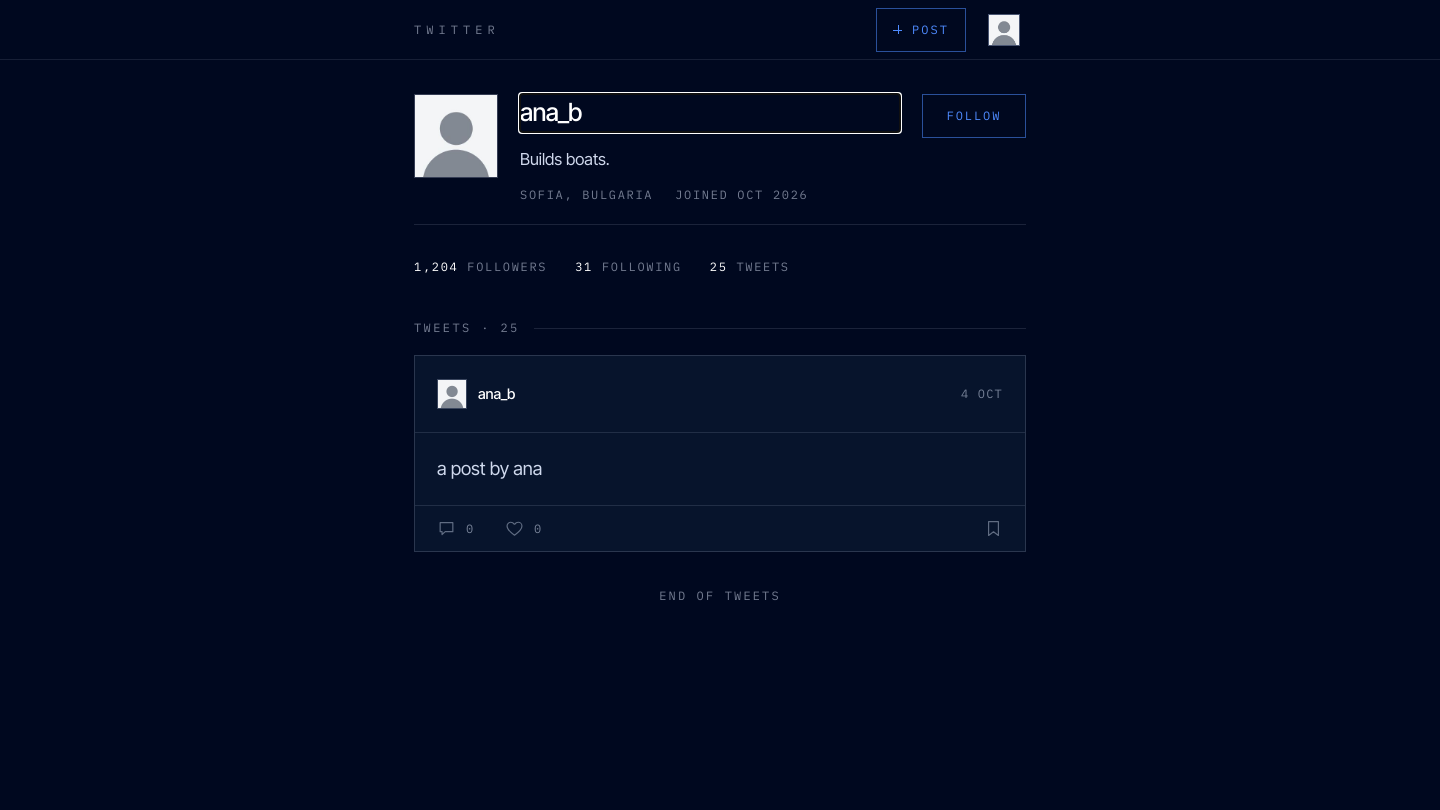
Scenario: the follower and following lists › should_say_there_is_nobody_when_the_list_is_empty
Click the button "1,204 FOLLOWERS" at (481, 267), box [414, 245, 547, 289]
Wait 1 ms
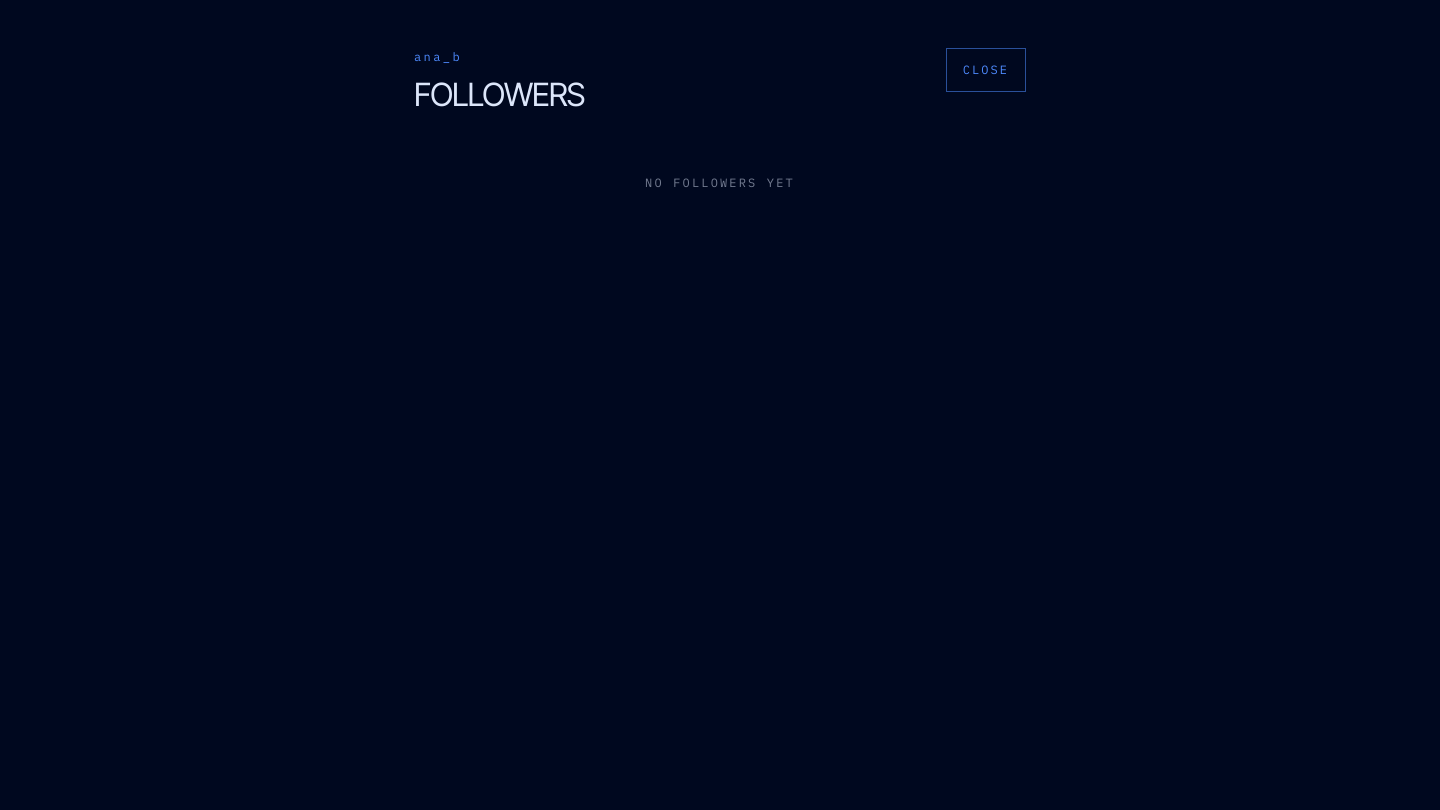
Now the text "NO FOLLOWERS YET" is shown, box [645, 175, 795, 190]
